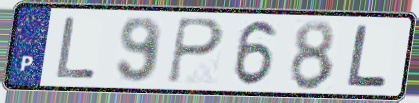6: (232, 18, 279, 88)
8: (286, 18, 341, 92)
9: (116, 15, 163, 85)
L: (345, 23, 392, 89), (53, 15, 99, 81)
P: (166, 15, 227, 86)
